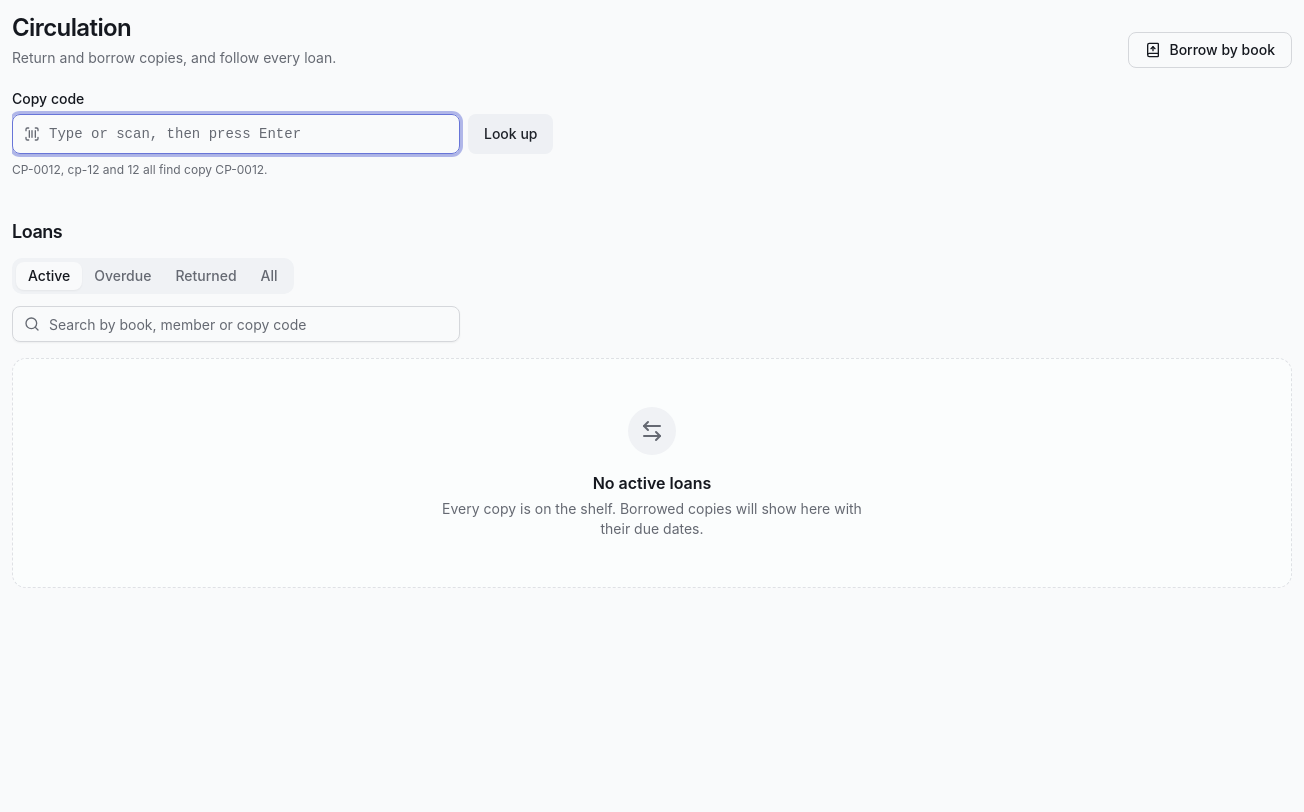
Scenario: CirculationPage: the copy-code box › says so when no copy has the code
Type "CP-0099" into the field labelled "Copy code".
click(236, 134); type("CP-0099")  # box [12,114,460,154]
Then press Enter
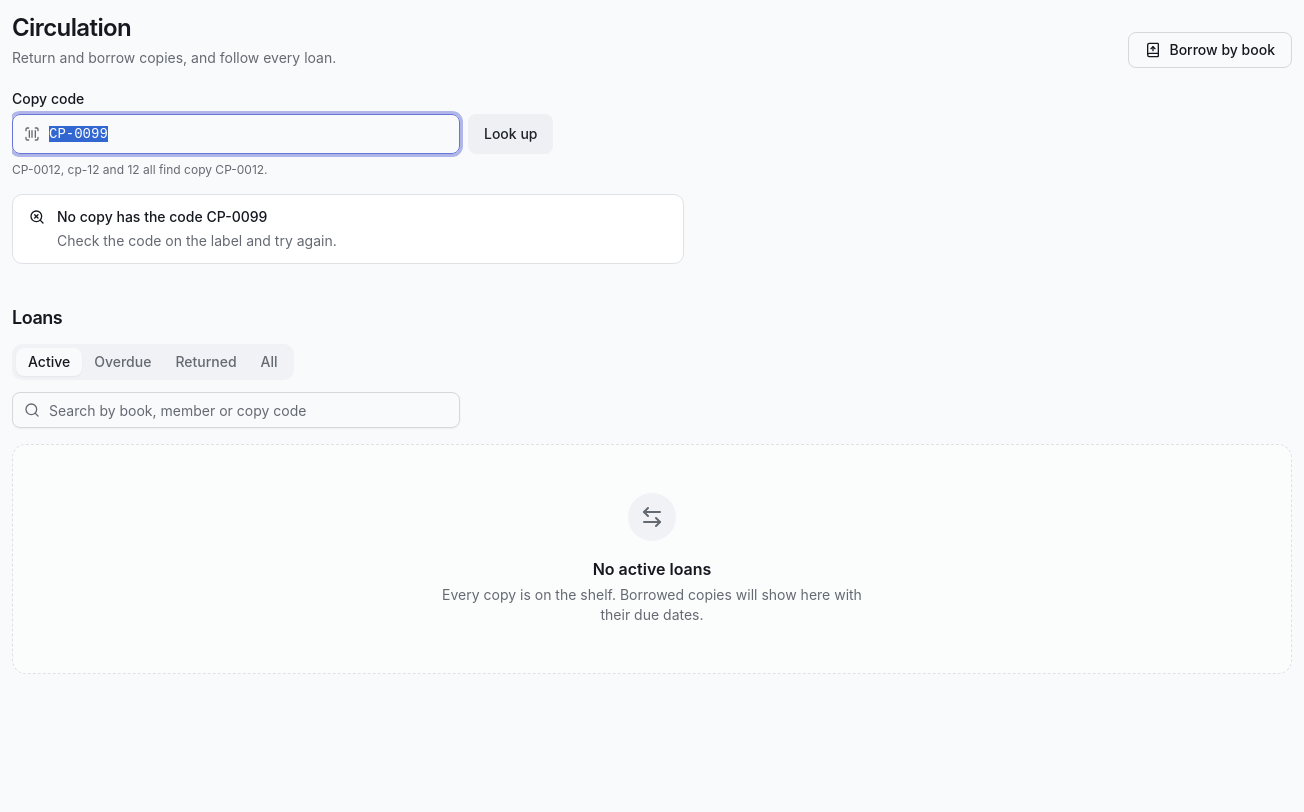
Check: the message shows "No copy has the code CP-0099", box [57,208,267,225]
